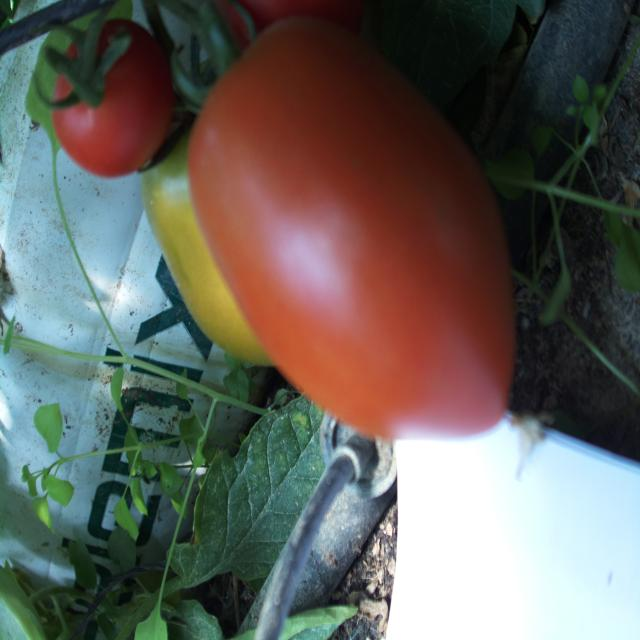kirmizi: (183, 21, 533, 467)
